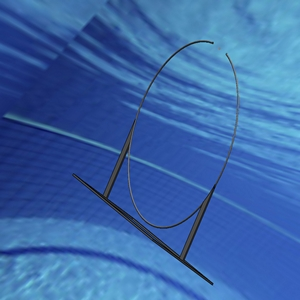circle: (70, 33, 250, 288), (125, 38, 240, 229)
